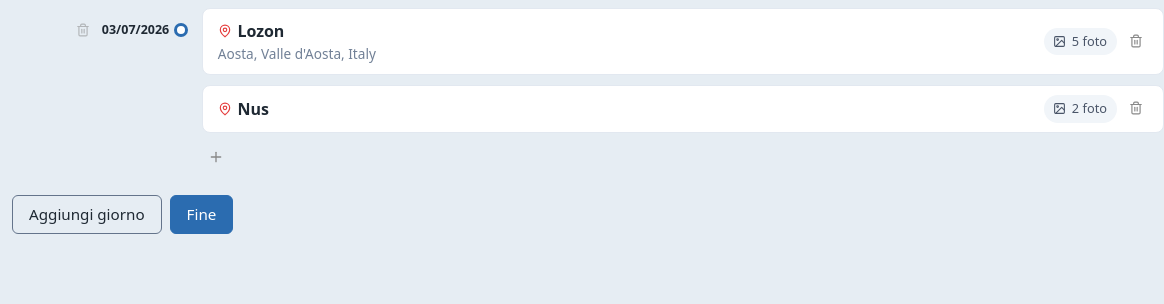
it: TripTimeline — inline editing (active trips) › shows a failed save as an in-place error
This screenshot has width=1164, height=304.
Click the button named "Elimina la località Nus del giorno 03/07/2026": (1136, 108) left=1123, top=95, right=1149, bottom=121
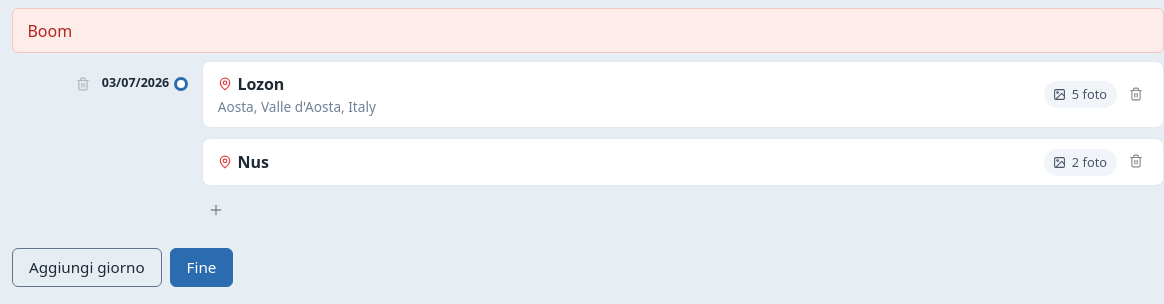
Expected: the text "Boom" is shown, left=12, top=8, right=1163, bottom=53
